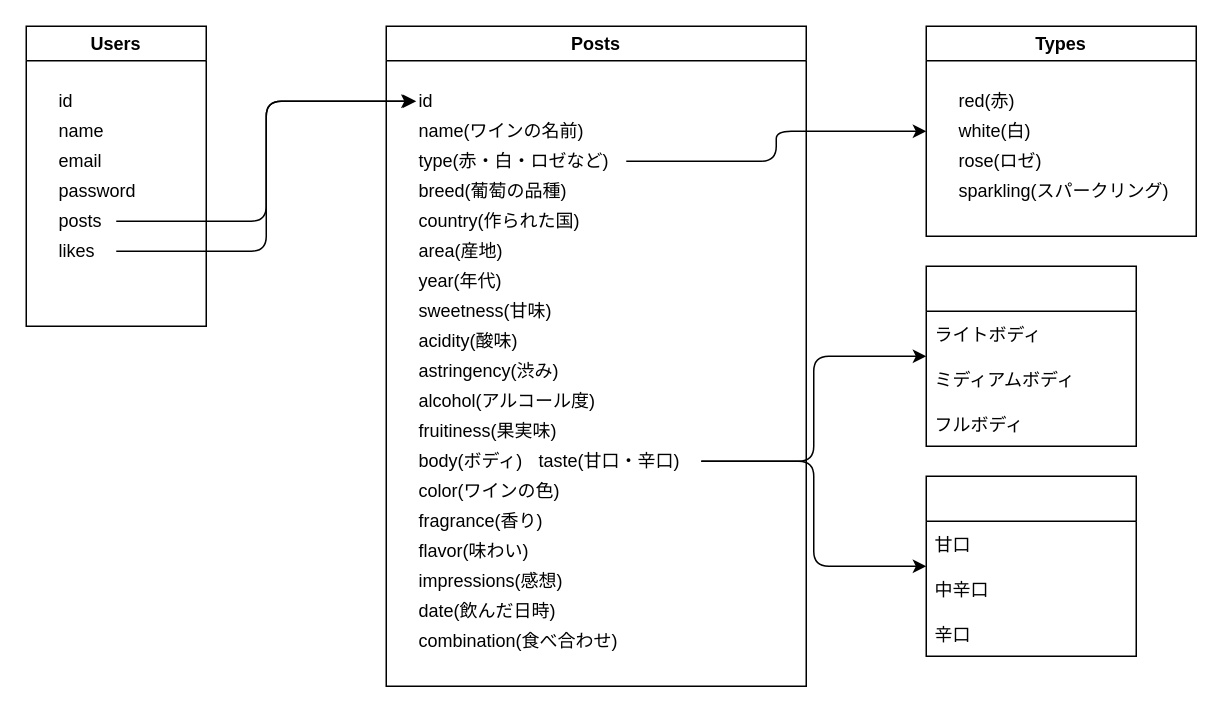
This 1223x713 diagram has some shape labels left out. The shapes that lost their labels are listed below. From the top down, each one's box as (x1, y1, x2, y2) in pixels, then its label:
(925, 265, 1136, 446): Bodies
(925, 475, 1136, 656): Tastes
